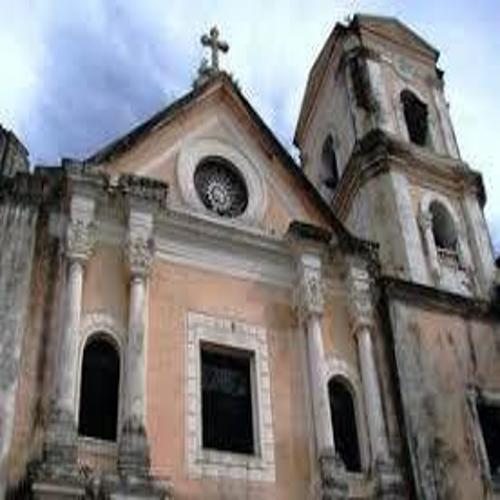San Agustin Church: (55, 3, 500, 500)
